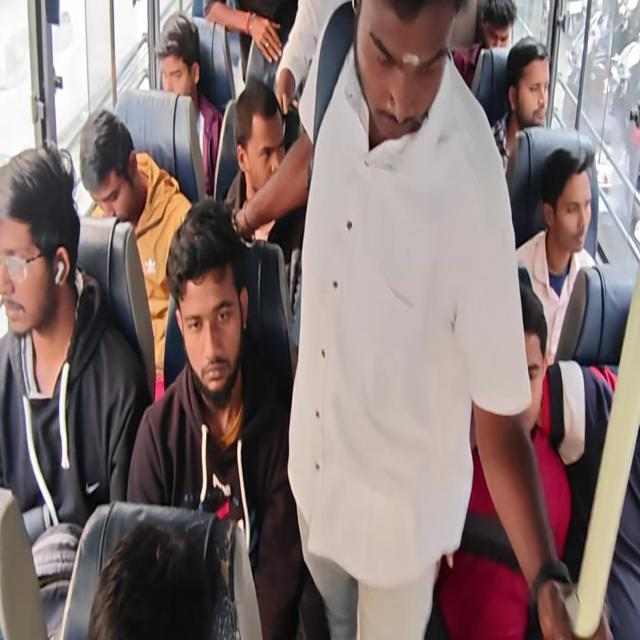person: (2, 0, 635, 638), (284, 0, 572, 638), (126, 197, 329, 638), (1, 140, 152, 638), (429, 266, 615, 638), (79, 108, 193, 402), (515, 146, 597, 366), (87, 519, 216, 639), (154, 12, 224, 198), (223, 79, 288, 242), (274, 0, 352, 117), (490, 36, 550, 176), (452, 0, 516, 89), (202, 0, 284, 65)
